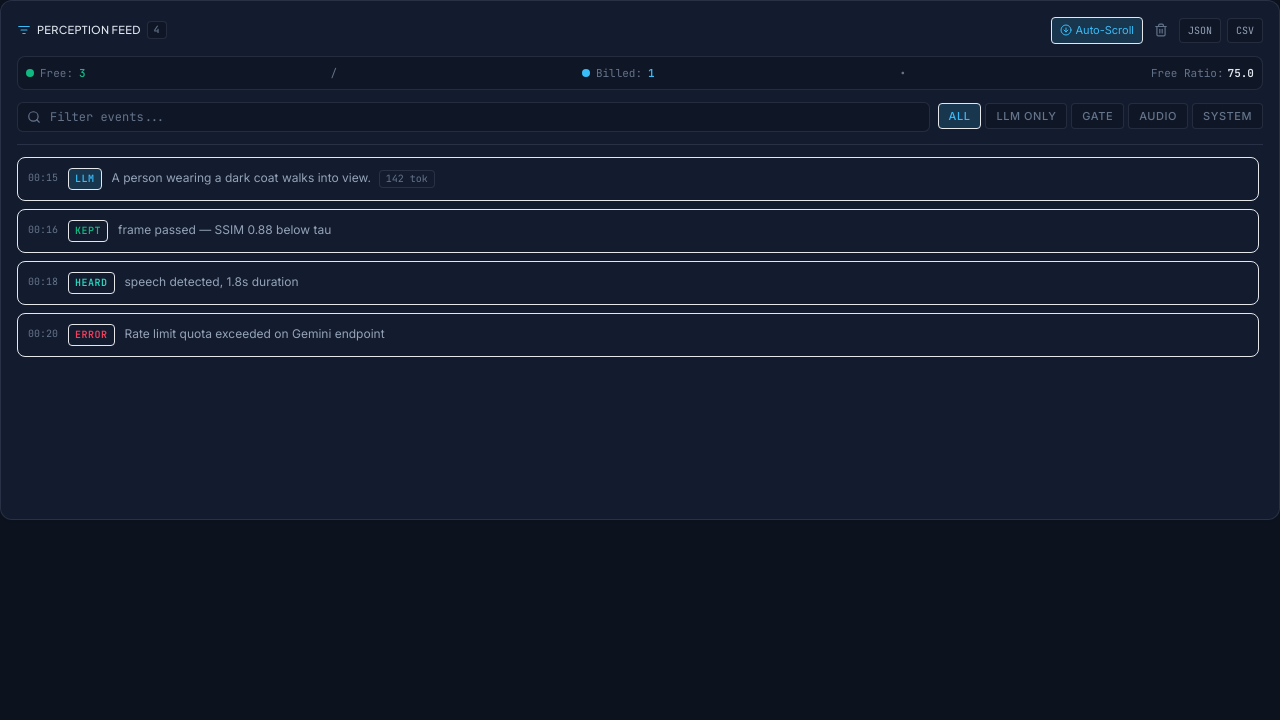
Test case: UI Components Edge Cases & Stress Resilience › PerceptionFeed Filtering & Search Edge Cases › shows "No matching events found." when search returns 0 results
The image size is (1280, 720).
Type "nonexistent_query_xyz" into the field with placeholder "Filter events..." at (473, 117), box [17,102,930,132]
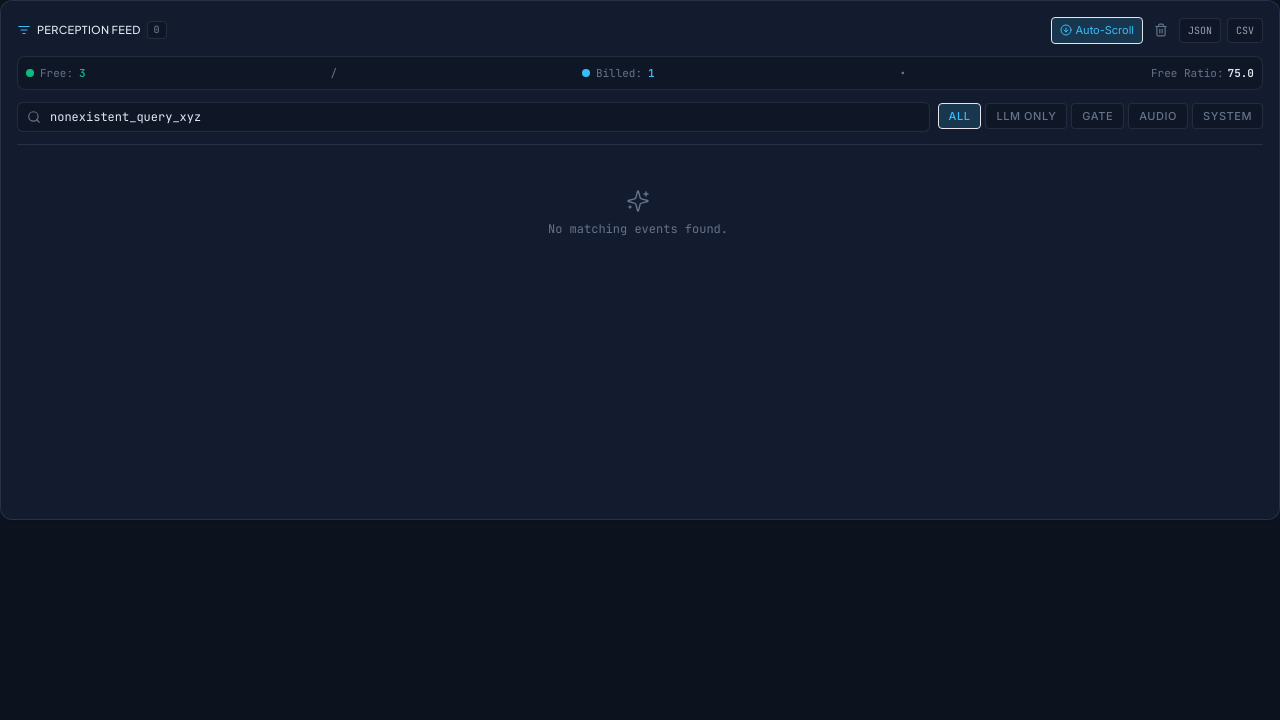
Now the text "No matching events found." is shown, box [548,221,728,237]
